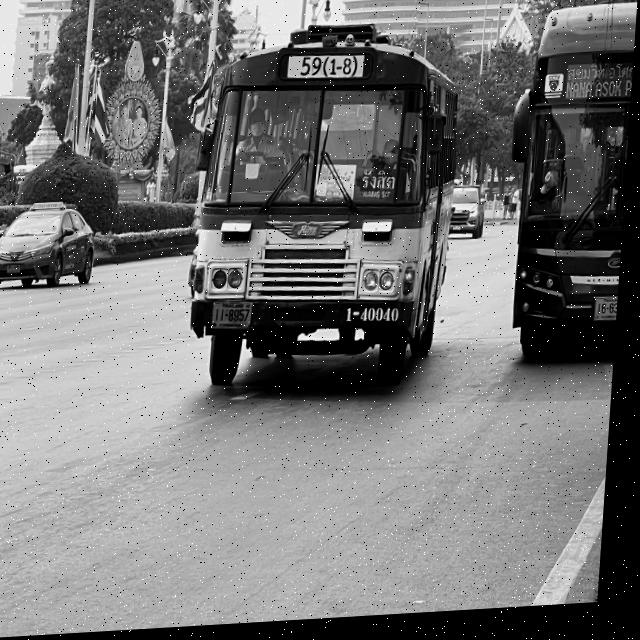BMTA-bus: (186, 23, 468, 404)
Bus-Line-Number: (279, 50, 379, 91)
Destination-Sign-Normal: (356, 168, 411, 212)
TSB-Bus: (501, 8, 638, 376)
